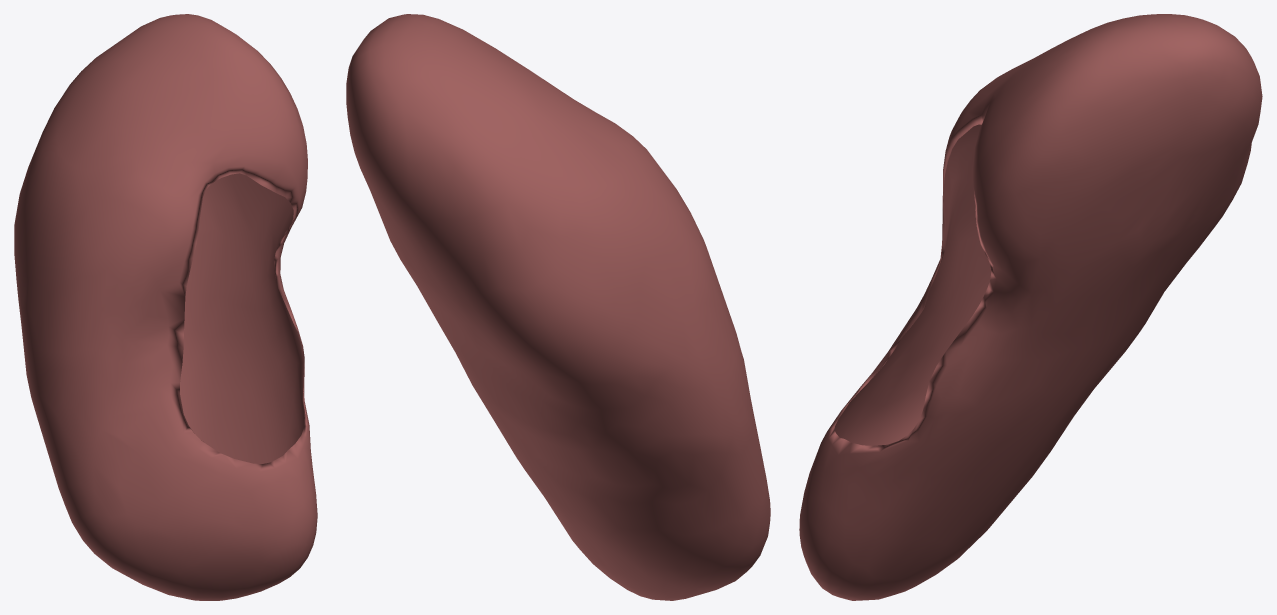
Rendered from kidney_right.glb.
3 views of the same model, side by side, from view 1: azimuth 30°, elevation 25°; view 2: azimuth 150°, elevation 25°; view 3: azimuth 270°, elevation 25° (orthographic). The views are drawn at different scales.
Parts seen in each view (by area): view 1: kidney_right; view 2: kidney_right; view 3: kidney_right.
Part boxes in pixels (x1,y1,x2,y2): kidney_right: (14, 14, 317, 600); kidney_right: (346, 14, 770, 600); kidney_right: (799, 14, 1262, 600).
Bounding box in the file's own units: 0.0655 × 0.1125 × 0.0764.
